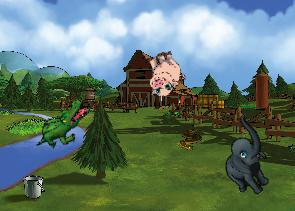crocodile: (34, 90, 92, 159)
elephant: (203, 113, 291, 202)
pig: (138, 47, 188, 99)
